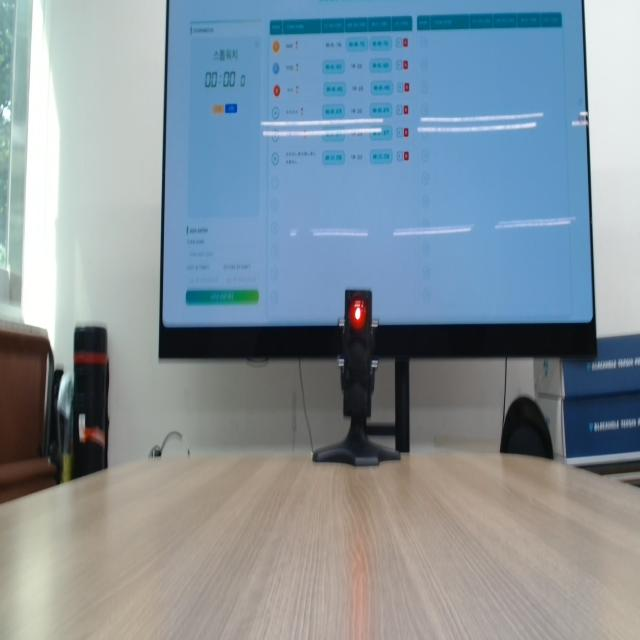red_light: (350, 299, 366, 331)
